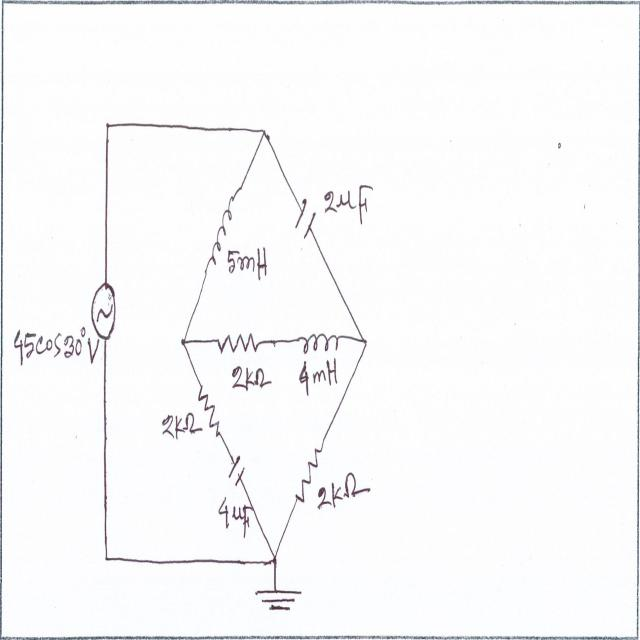ac_current: (89, 277, 121, 343)
capacitor: (294, 196, 317, 242), (226, 449, 246, 494)
ground: (252, 580, 305, 616)
inductor: (201, 191, 240, 269), (296, 324, 344, 358)
resistor: (290, 442, 322, 505), (198, 376, 223, 440), (216, 328, 258, 360)
